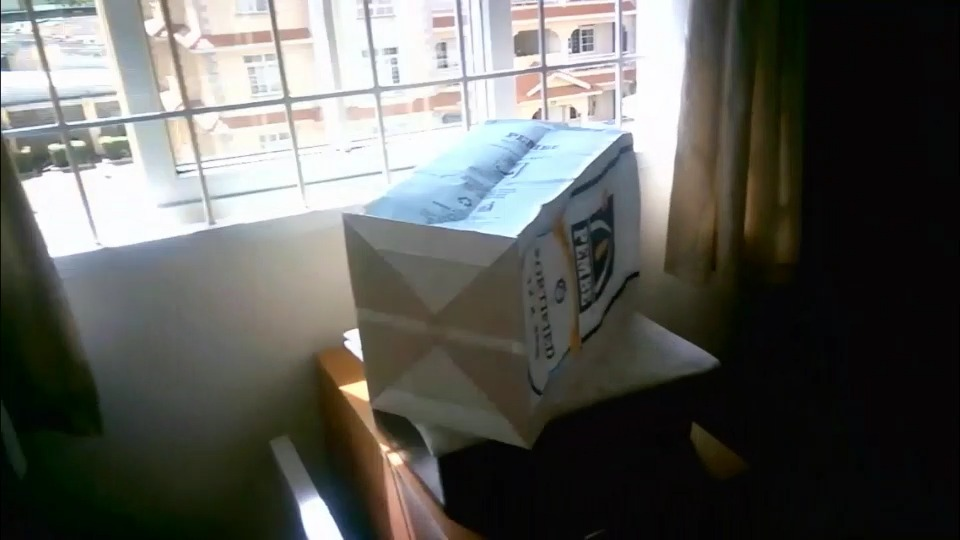wheat_flour_blue_label: (337, 116, 643, 446)
